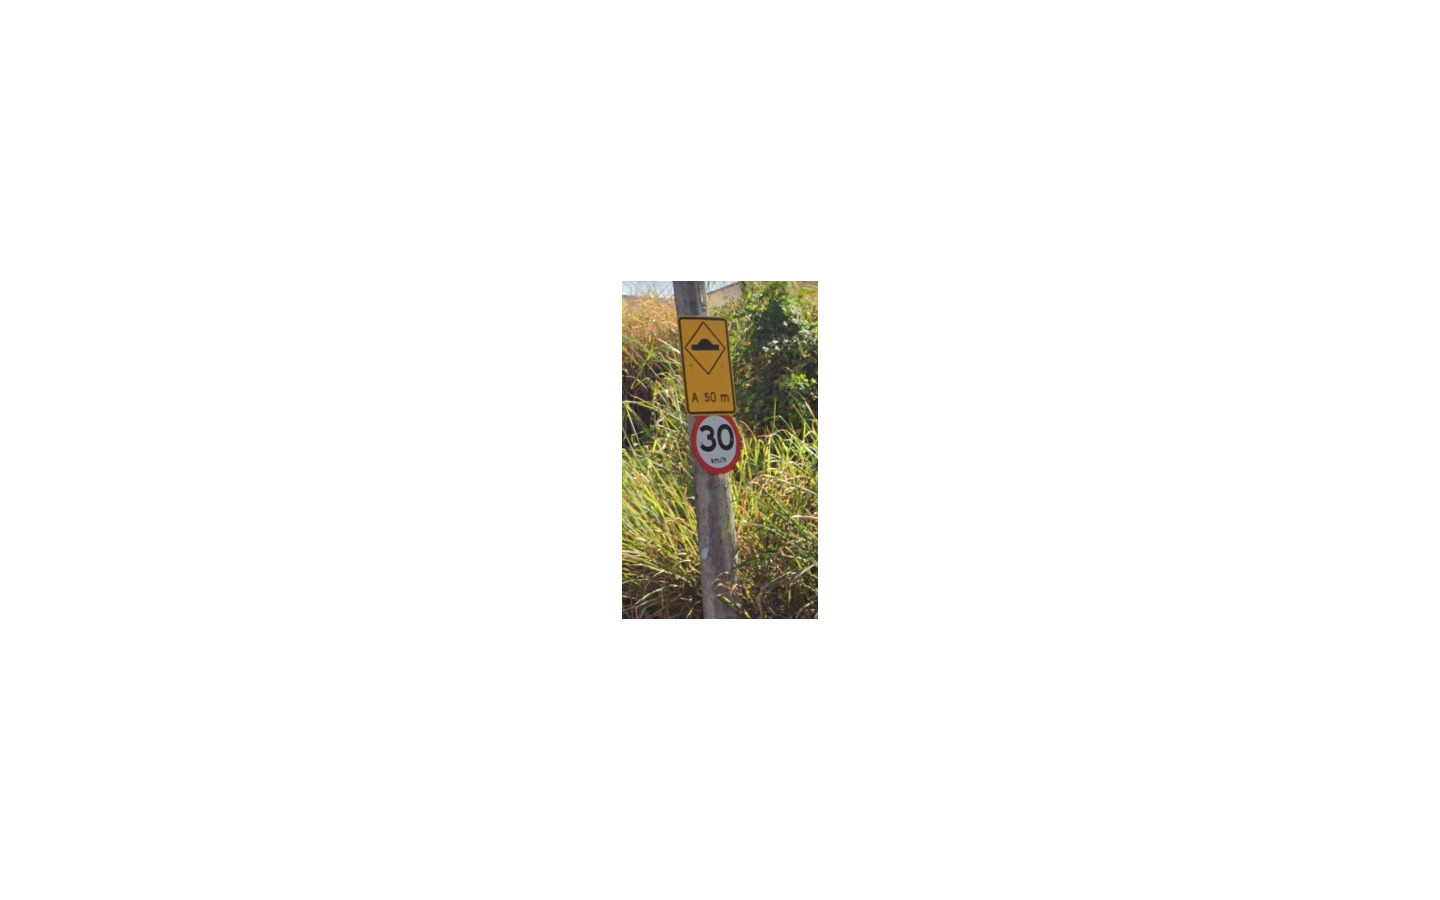l50m: (677, 316, 736, 414)
